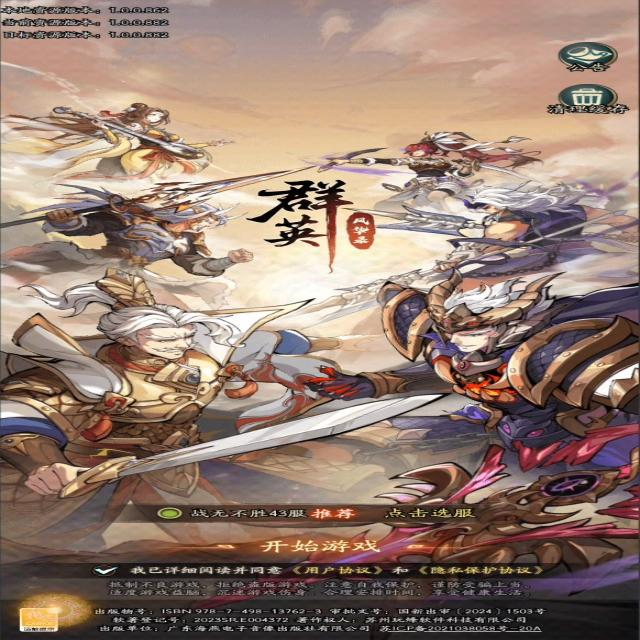operation-enter: (247, 536, 393, 555)
system-cleanUpCache: (545, 84, 631, 115)
system-notices: (558, 40, 626, 74)
system-protocol-box: (126, 564, 283, 576)
